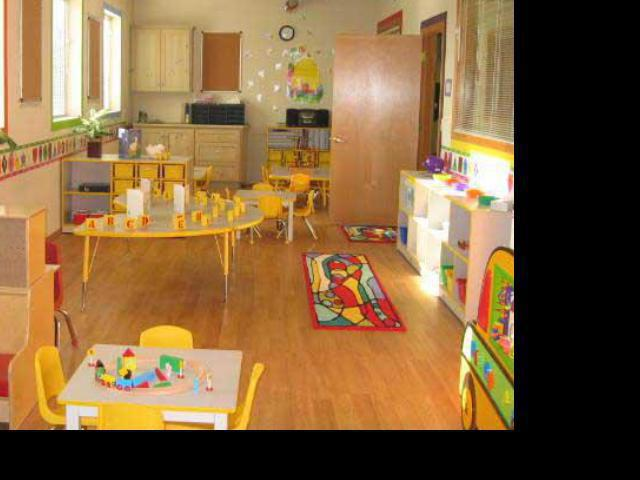Otro Obstaculo: (456, 242, 562, 463)
Puerta: (334, 33, 413, 232)
